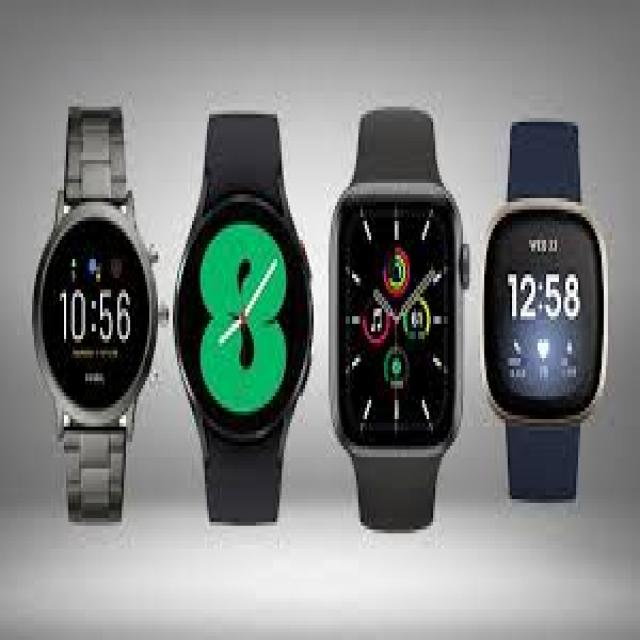objects: (32, 107, 170, 527), (331, 107, 465, 530), (173, 114, 311, 518), (484, 122, 606, 495)
